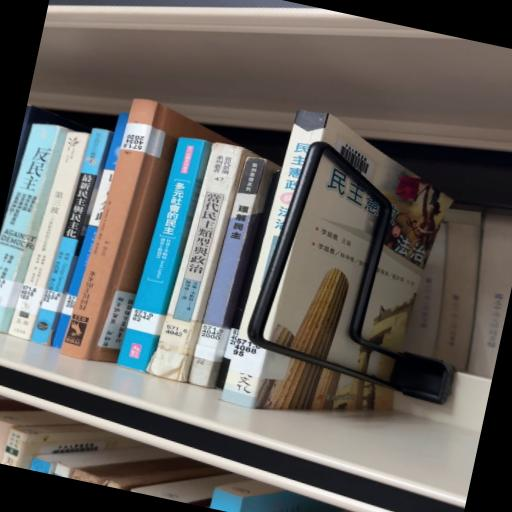reverse: (61, 99, 233, 363)
